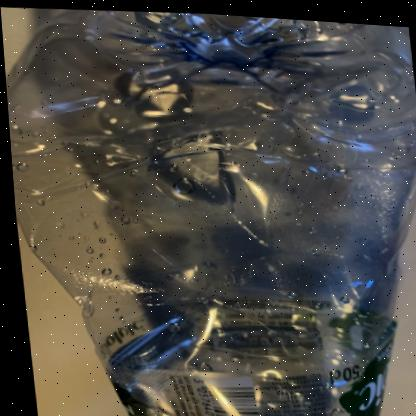Plastic: (5, 8, 416, 416)
